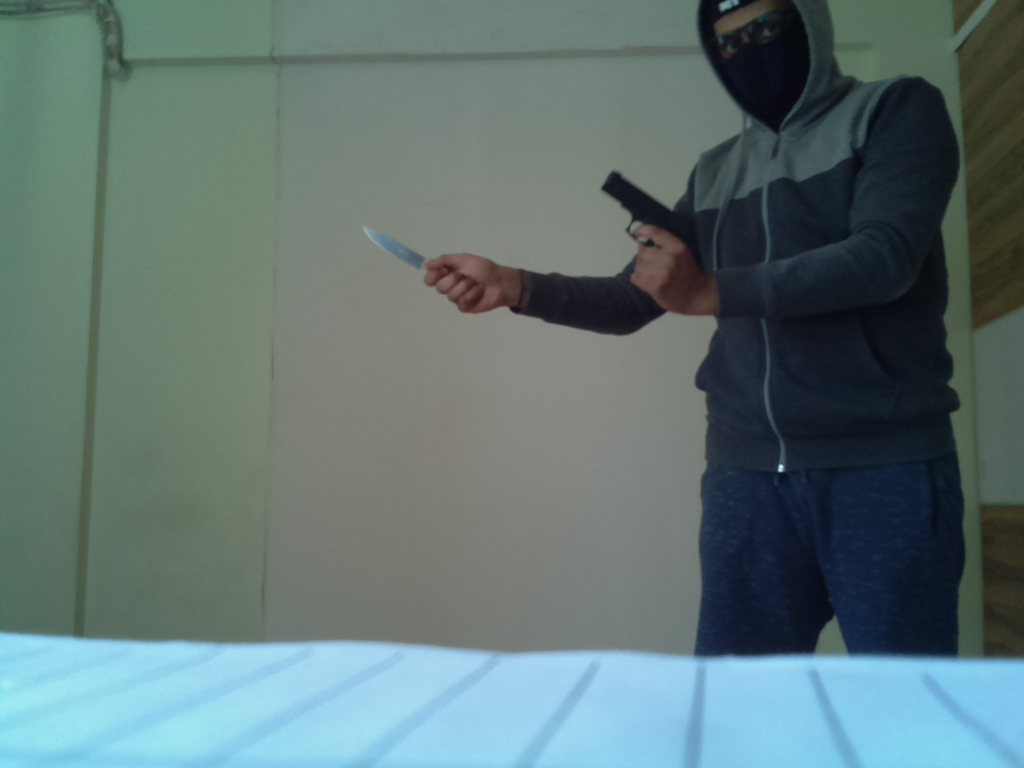gun: (597, 172, 698, 259)
knife: (355, 227, 459, 282)
